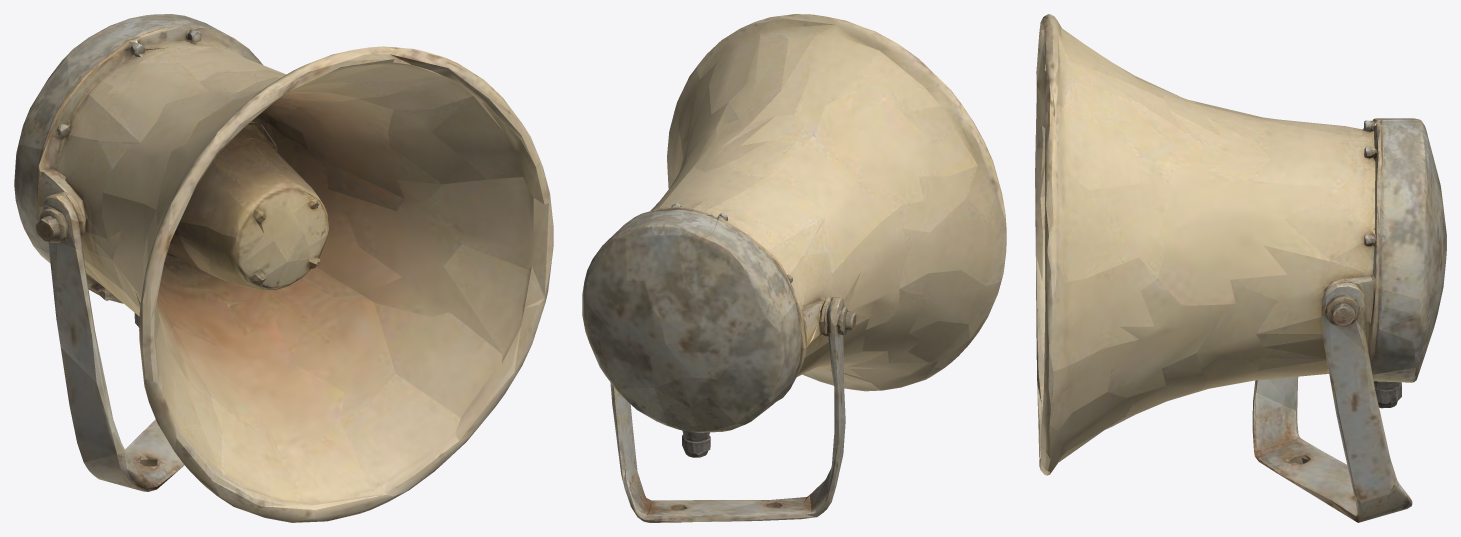
The model's file is w3hhorn.glb.
3 views of the same model, side by side, from view 1: azimuth 30°, elevation 25°; view 2: azimuth 150°, elevation 25°; view 3: azimuth 270°, elevation 25° (orthographic). The views are drawn at different scales.
Parts seen in each view (by area): view 1: output_unwrapped; view 2: output_unwrapped; view 3: output_unwrapped.
Part boxes in pixels (left/top/right/bottom): output_unwrapped: left=14, top=14, right=553, bottom=522; output_unwrapped: left=582, top=14, right=1006, bottom=522; output_unwrapped: left=1035, top=14, right=1446, bottom=522.
Size of the model in its own units: 0.3473 by 0.4 by 0.3238.
1 material, 1 textured.
